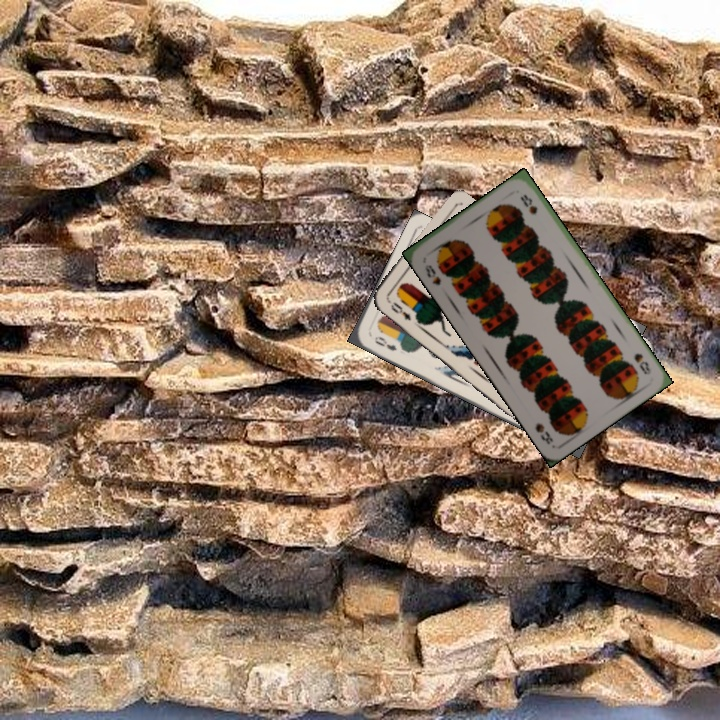EO: (387, 297, 414, 323), (370, 332, 399, 354)
S8: (630, 349, 653, 377), (421, 260, 443, 288)
